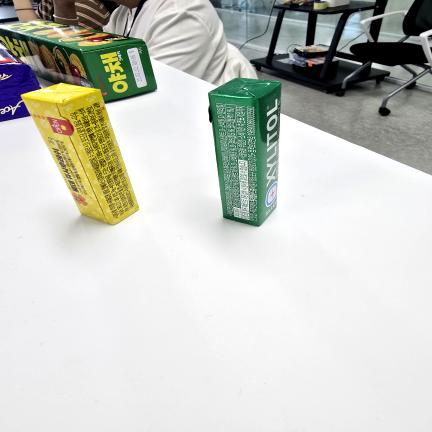gum_green: (208, 78, 281, 226)
gum_yellow: (22, 83, 139, 225)
